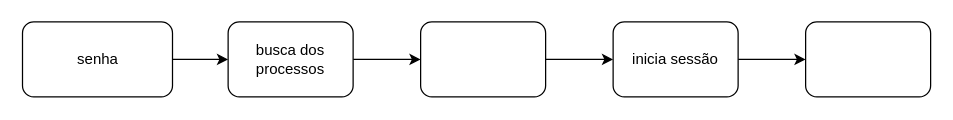
Some shapes in this 953 by 120 pixel diagram are drawn without their labels. The box of each missing label's shape, as (x1, y1, x2, y2) in pixels:
update do front: (419, 21, 546, 97)
updates: (804, 21, 931, 97)
